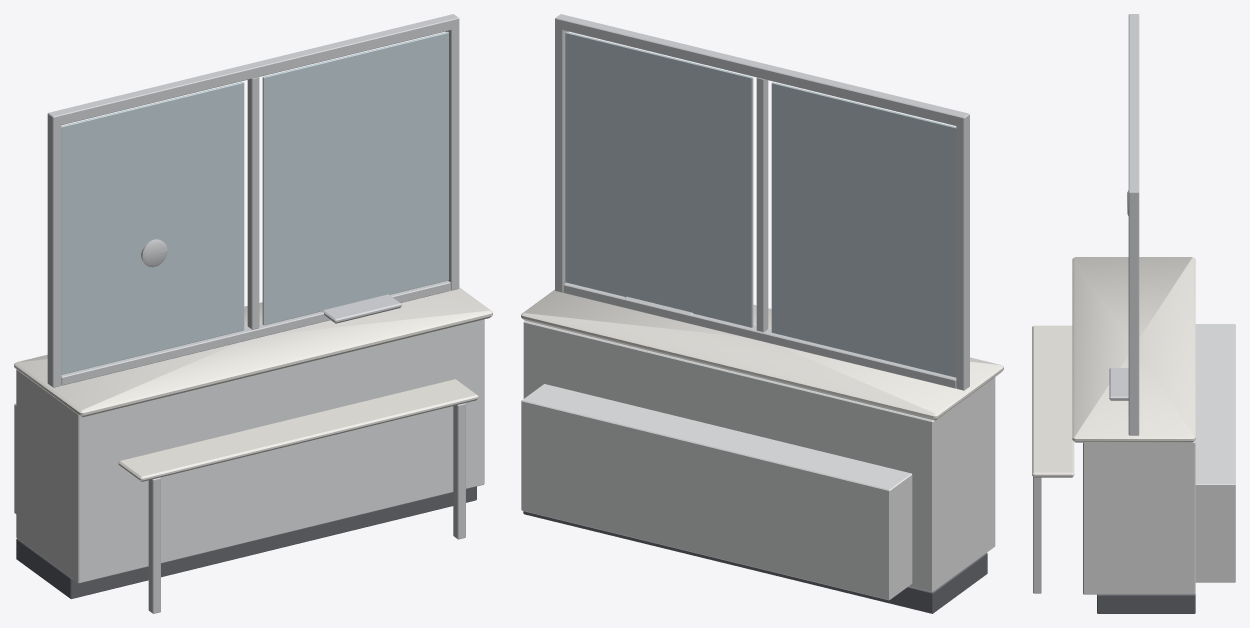
The model's file is police-station-and-detective-office-front-counter-bay-f081466a__29951.glb.
3 renders of one model, left to right at view 1: azimuth 30°, elevation 25°; view 2: azimuth 150°, elevation 25°; view 3: azimuth 270°, elevation 25°, orthographic. The views are drawn at different scales.
Visible parts, largest first — view 1: front-counter-bay; view 2: front-counter-bay; view 3: front-counter-bay.
Boxes of the visible parts, <box> form: front-counter-bay: <box>14,14,492,613</box>; front-counter-bay: <box>521,14,1003,613</box>; front-counter-bay: <box>1032,14,1235,613</box>.
Bounding box in the file's own units: 2.44 × 2.65 × 1.16.
